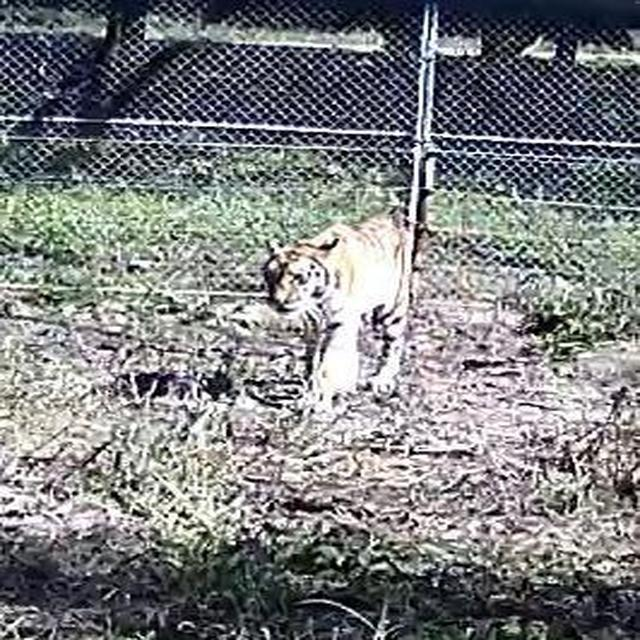tiger: (259, 208, 427, 418)
